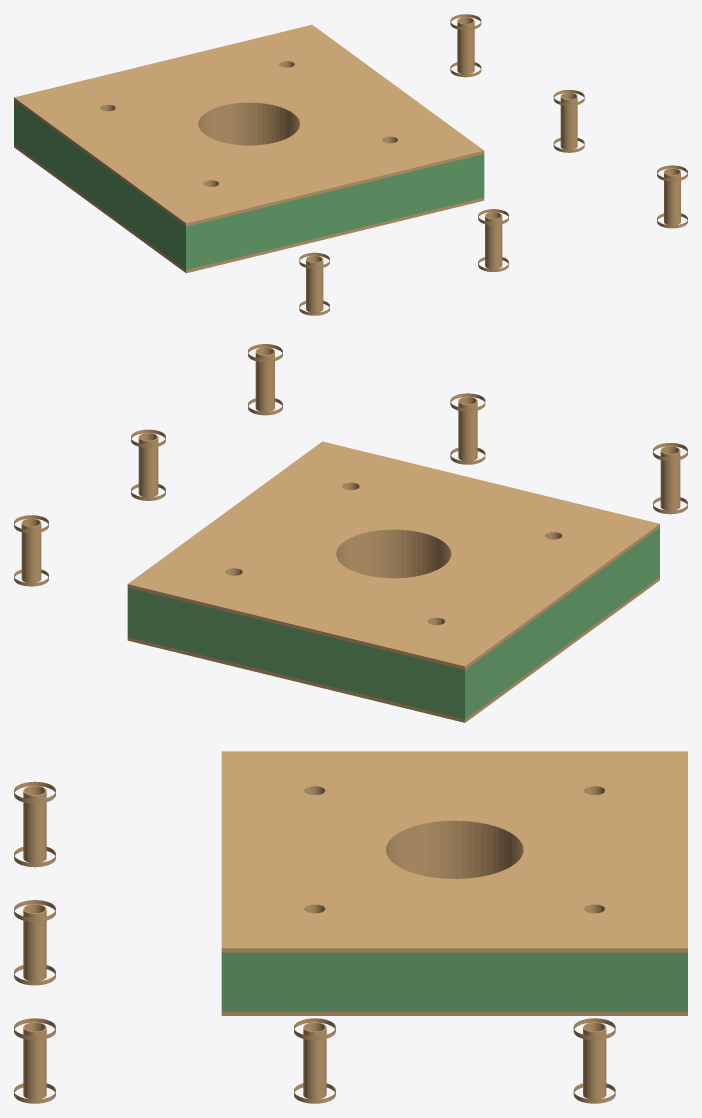
Rendered from board.glb.
3 renders of one model, top to bottom at view 1: azimuth 30°, elevation 25°; view 2: azimuth 150°, elevation 25°; view 3: azimuth 270°, elevation 25°, orthographic. The views are drawn at different scales.
Parts seen in each view (by area): view 1: Substrate_Layer_2_Z0, Substrate_Layer_1_Z0, Contact_5, Substrate_Layer_0_Z0, Contact_14, Contact_26, Contact_23, Contact_29, Contact_32; view 2: Substrate_Layer_2_Z0, Substrate_Layer_1_Z0, Contact_5, Substrate_Layer_0_Z0, Contact_26, Contact_29, Contact_14, Contact_23, Contact_32; view 3: Substrate_Layer_2_Z0, Substrate_Layer_1_Z0, Contact_5, Substrate_Layer_0_Z0, Contact_14, Contact_26, Contact_32, Contact_23, Contact_29.
Boxes of the visible parts, x1,y1,x2,y2 form: Substrate_Layer_2_Z0: (14, 24, 484, 226); Substrate_Layer_1_Z0: (14, 101, 484, 270); Contact_5: (197, 102, 300, 145); Substrate_Layer_0_Z0: (14, 144, 484, 273); Contact_14: (306, 255, 323, 312); Contact_26: (457, 17, 474, 73); Contact_23: (485, 212, 502, 268); Contact_29: (560, 92, 577, 149); Contact_32: (664, 168, 680, 225); Substrate_Layer_2_Z0: (127, 441, 659, 669); Substrate_Layer_1_Z0: (127, 527, 659, 719); Contact_5: (335, 529, 452, 578); Substrate_Layer_0_Z0: (127, 577, 659, 722); Contact_26: (21, 518, 41, 582); Contact_29: (138, 433, 158, 497); Contact_14: (660, 446, 680, 510); Contact_23: (458, 396, 477, 461); Contact_32: (255, 347, 274, 411); Substrate_Layer_2_Z0: (221, 751, 687, 952); Substrate_Layer_1_Z0: (221, 952, 687, 1011); Contact_5: (385, 820, 524, 879); Substrate_Layer_0_Z0: (221, 1011, 687, 1015); Contact_14: (23, 785, 46, 862); Contact_26: (583, 1022, 606, 1099); Contact_32: (23, 1022, 46, 1099); Contact_23: (23, 904, 46, 981); Contact_29: (303, 1022, 326, 1099).
Size of the model in its own units: 0.0144 by 0.0016 by 0.0144.
